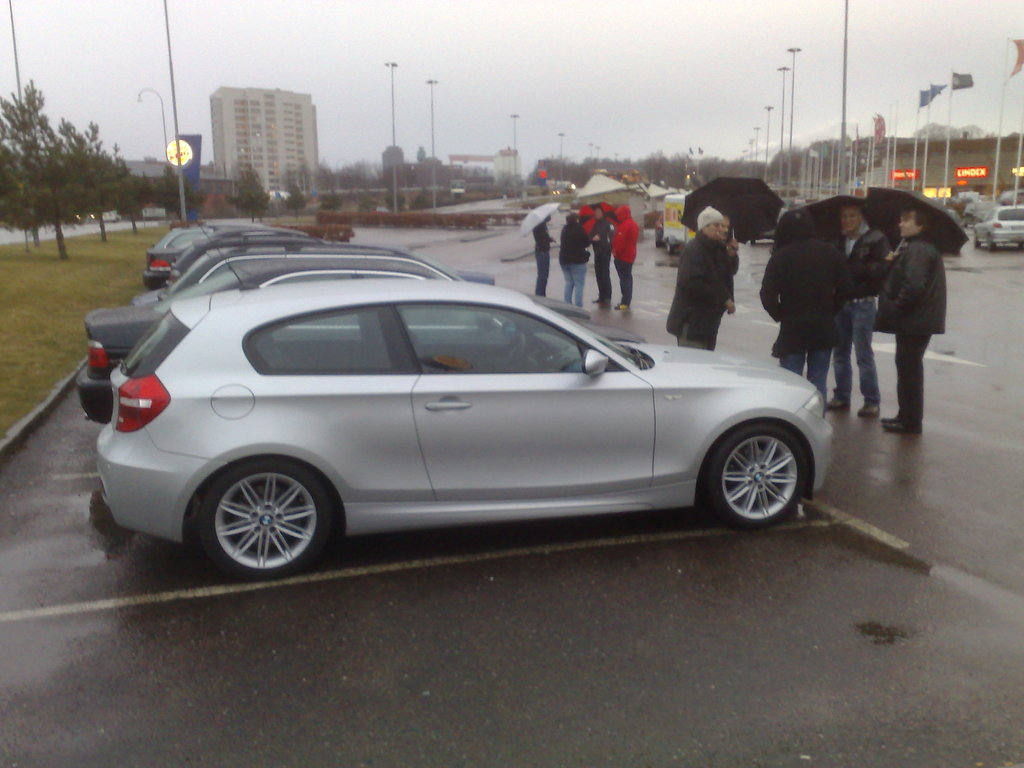cars: (72, 251, 649, 421), (132, 244, 496, 303), (139, 215, 297, 285), (170, 236, 361, 281), (972, 203, 1023, 250)
